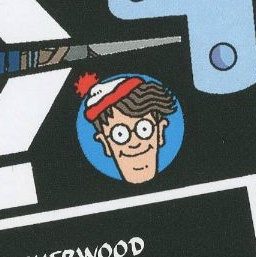waldo: (78, 77, 178, 180)
